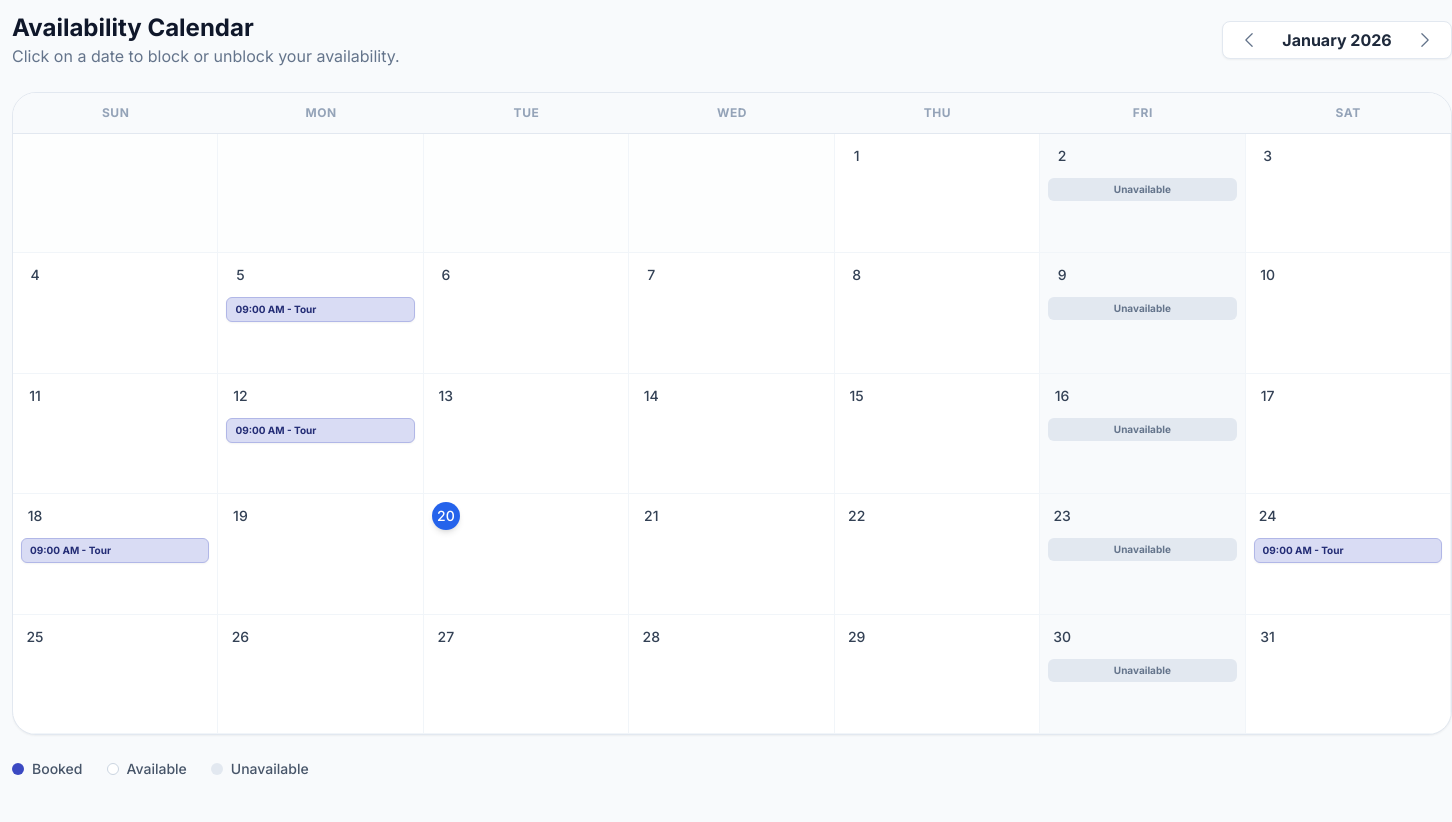
GuideCalendarPage › selects a date when clicked
The image size is (1452, 822).
What coordinates should you click on to do the following:
click the text "15"
I would click on:
 (857, 395)
Its box is [850,387,864,404].
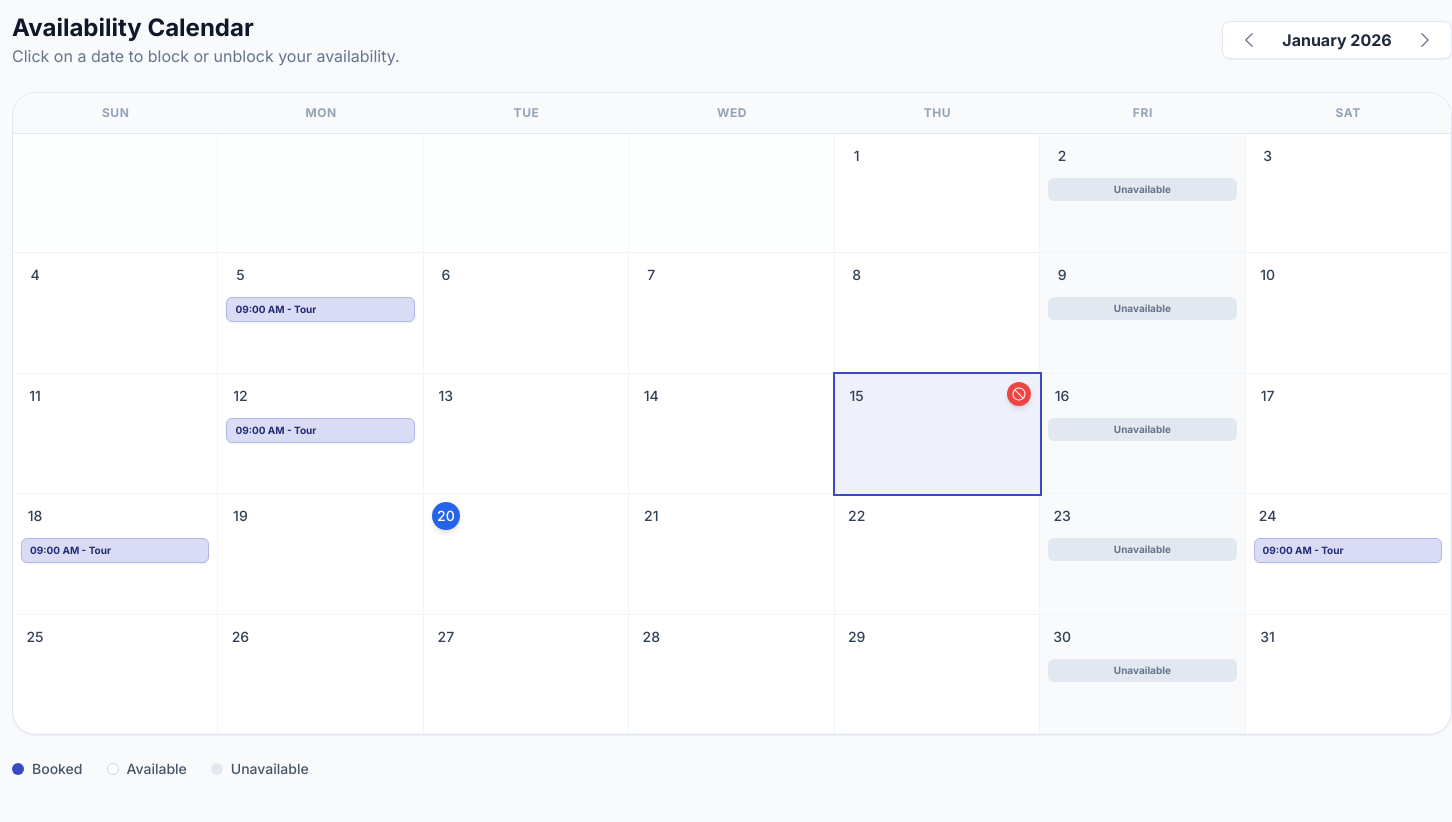
Now the button titled "Block Date" is shown, box [1007,382,1031,406]
